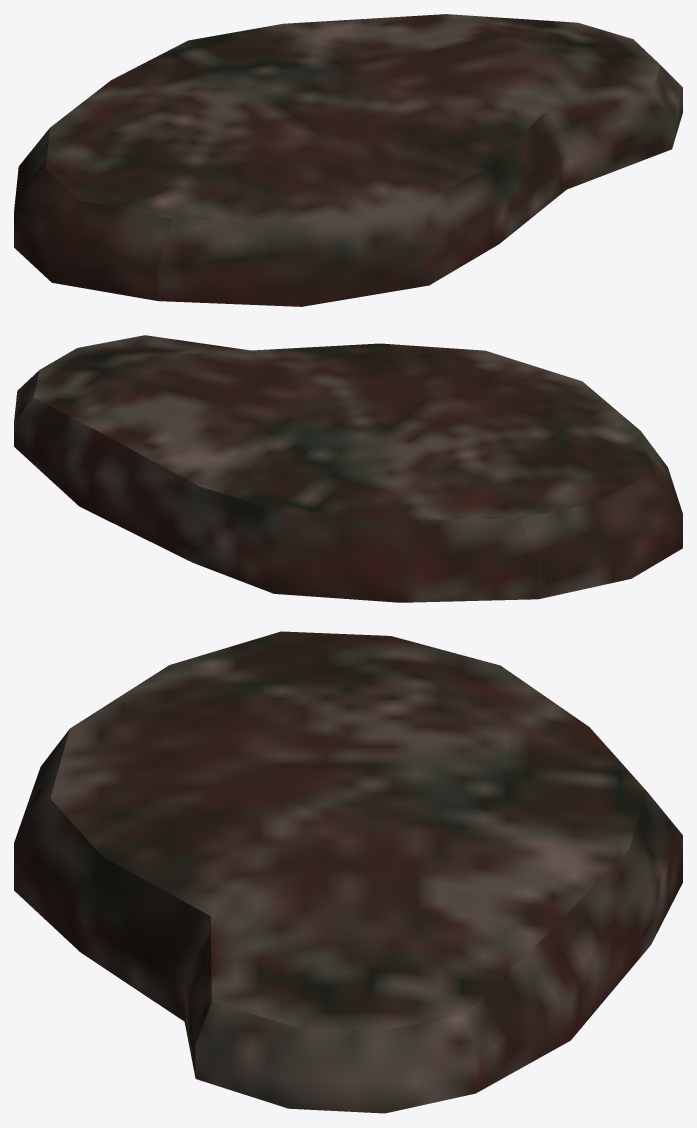
Rendered from spoiledMeat2.fbx.
3 views of the same model, one above another, from view 1: azimuth 30°, elevation 25°; view 2: azimuth 150°, elevation 25°; view 3: azimuth 270°, elevation 25° (orthographic). The views are drawn at different scales.
Parts seen in each view (by area): view 1: pCube75; view 2: pCube75; view 3: pCube75.
Part boxes in pixels (box(x1,y1,x2,y2)): pCube75: box(14, 14, 682, 306); pCube75: box(14, 335, 682, 602); pCube75: box(14, 631, 682, 1113).
Bounding box in the file's own units: 94.28 × 12.06 × 63.53.
